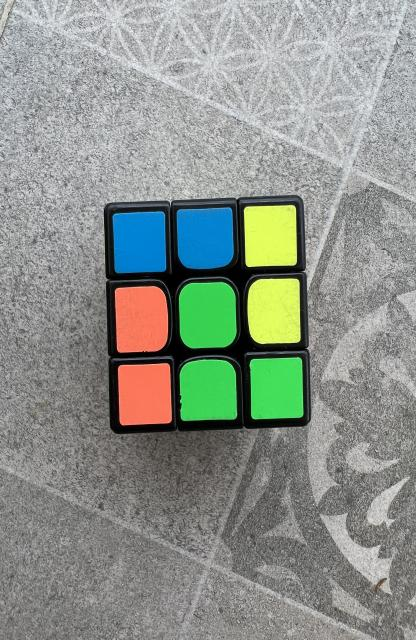Blue: (177, 208, 234, 269), (113, 211, 166, 274)
Green: (179, 282, 237, 349), (180, 359, 237, 421), (249, 358, 303, 420)
Orange: (115, 286, 168, 352), (118, 364, 172, 425)
Yellow: (247, 279, 301, 344), (244, 205, 297, 268)
